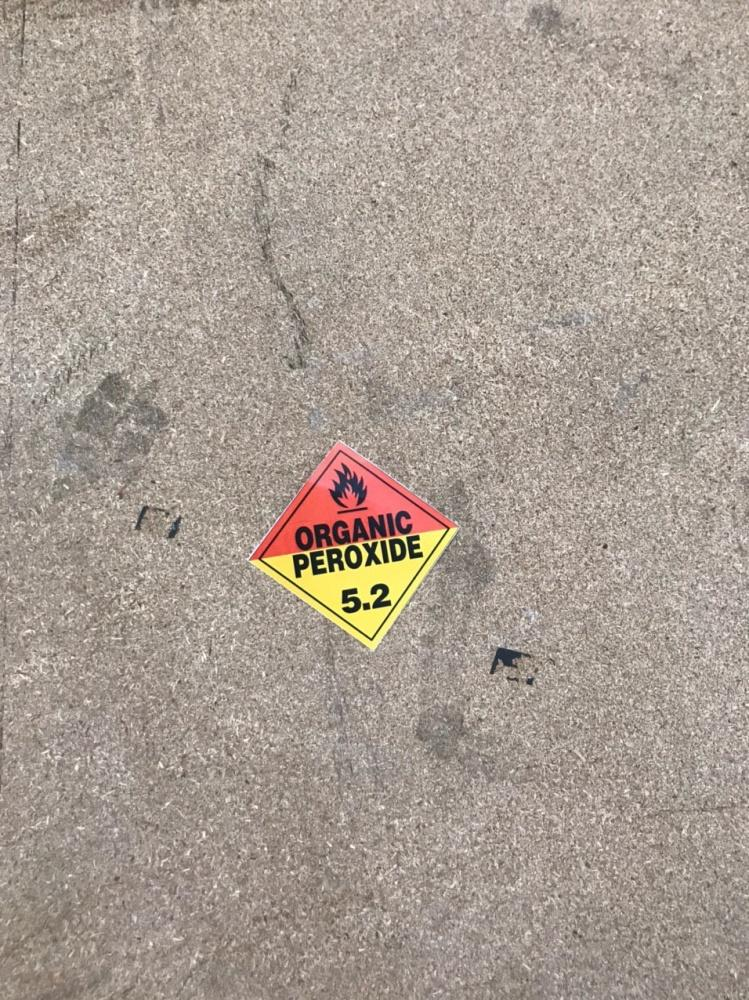organic-peroxide: (250, 442, 461, 651)
